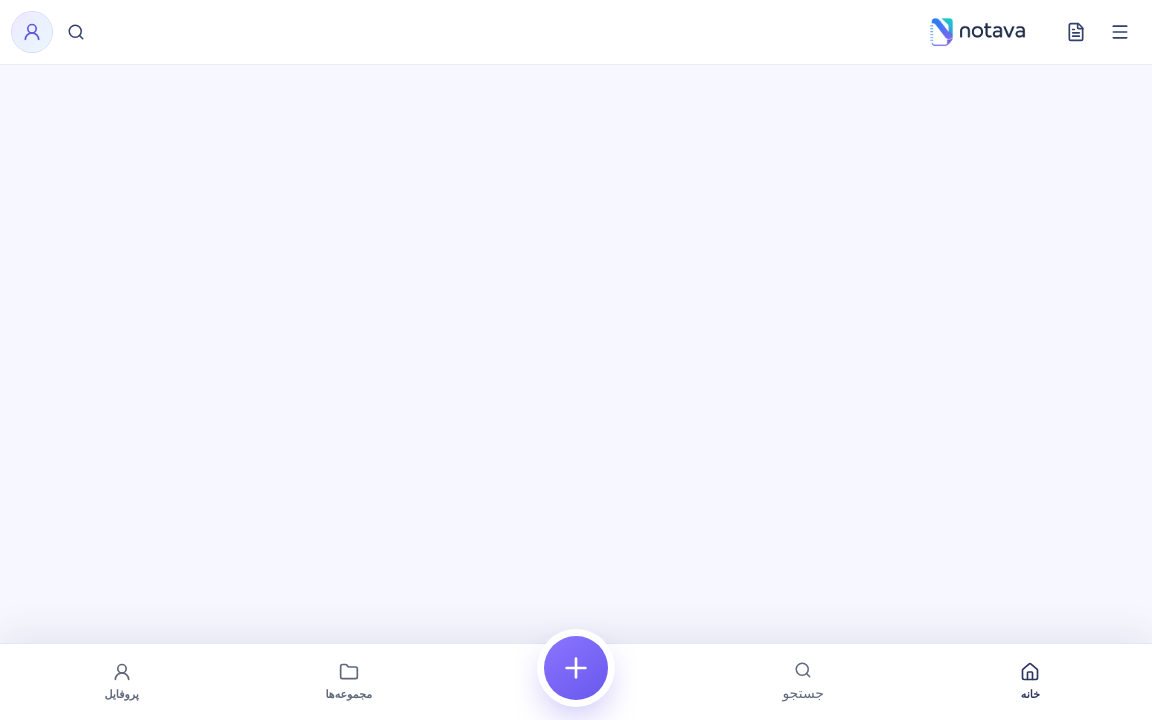
Scenario: MobileShell › updates group and notebook labels immediately after rename events
This screenshot has width=1152, height=720.
Click the button named "باز کردن مجموعه‌ها": (1120, 32) [1100,12,1140,52]
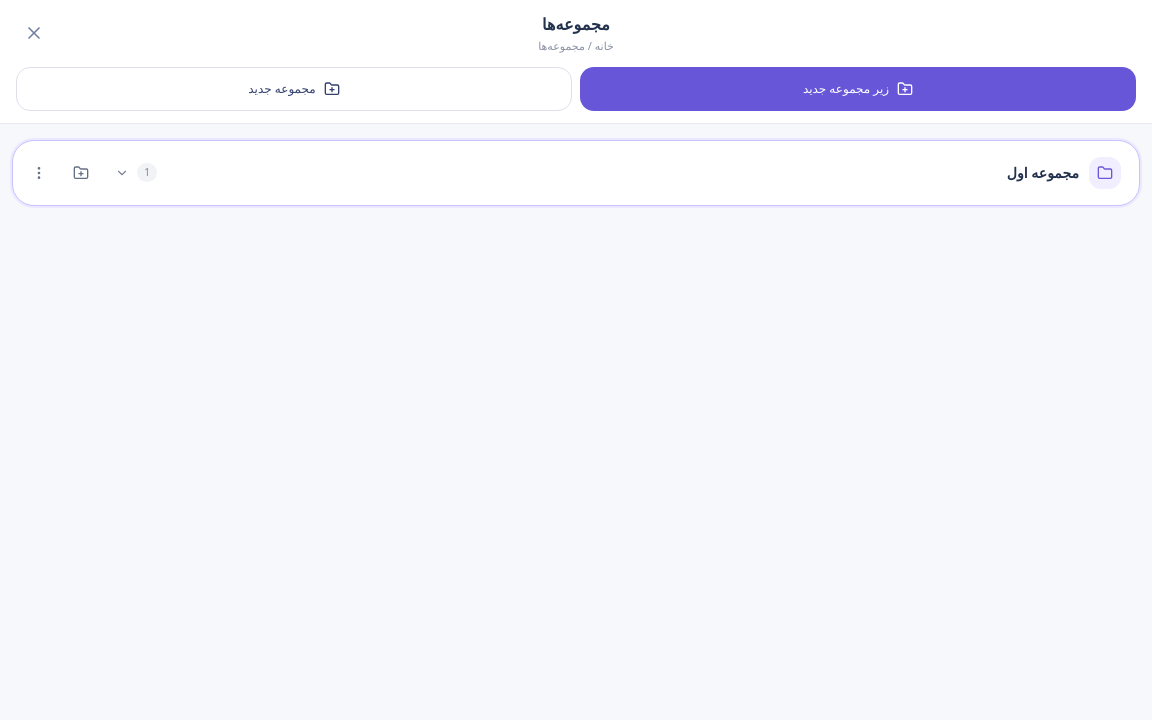
Click the button "مجموعه اول 1": (1105, 172) [105,148,1131,196]
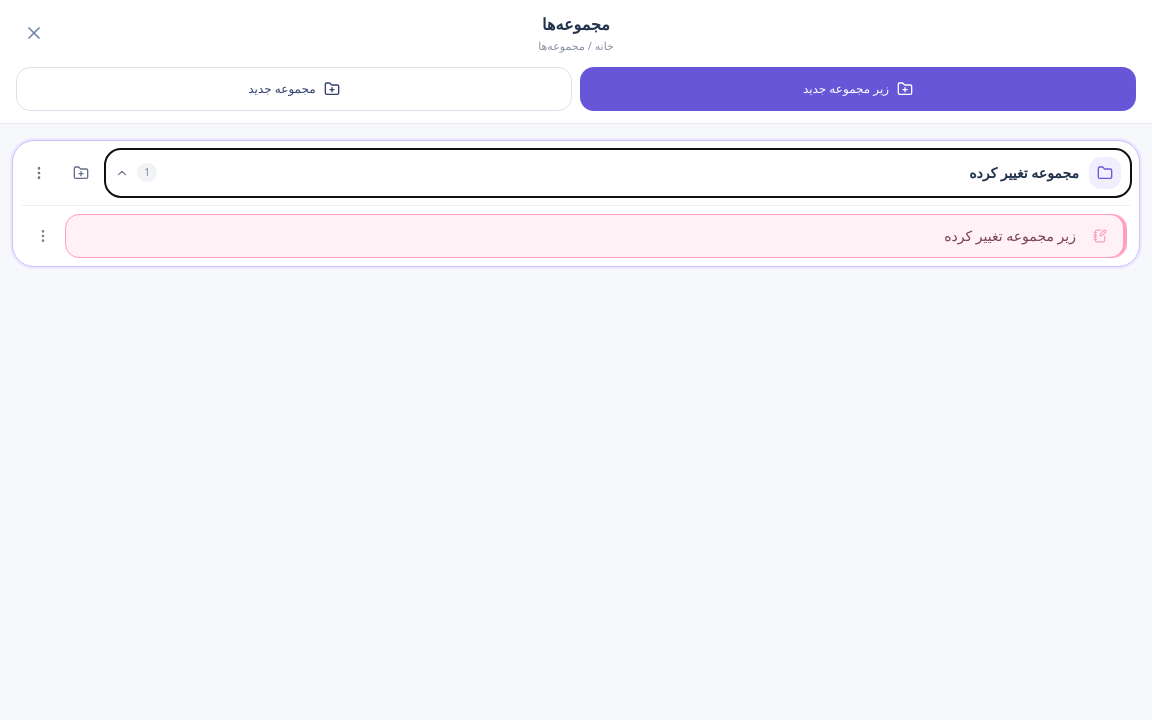
Now the button "1 مجموعه تغییر کرده" is shown, box [105,148,1131,196]
Now the button "زیر مجموعه تغییر کرده" is shown, box [65,214,1127,258]
